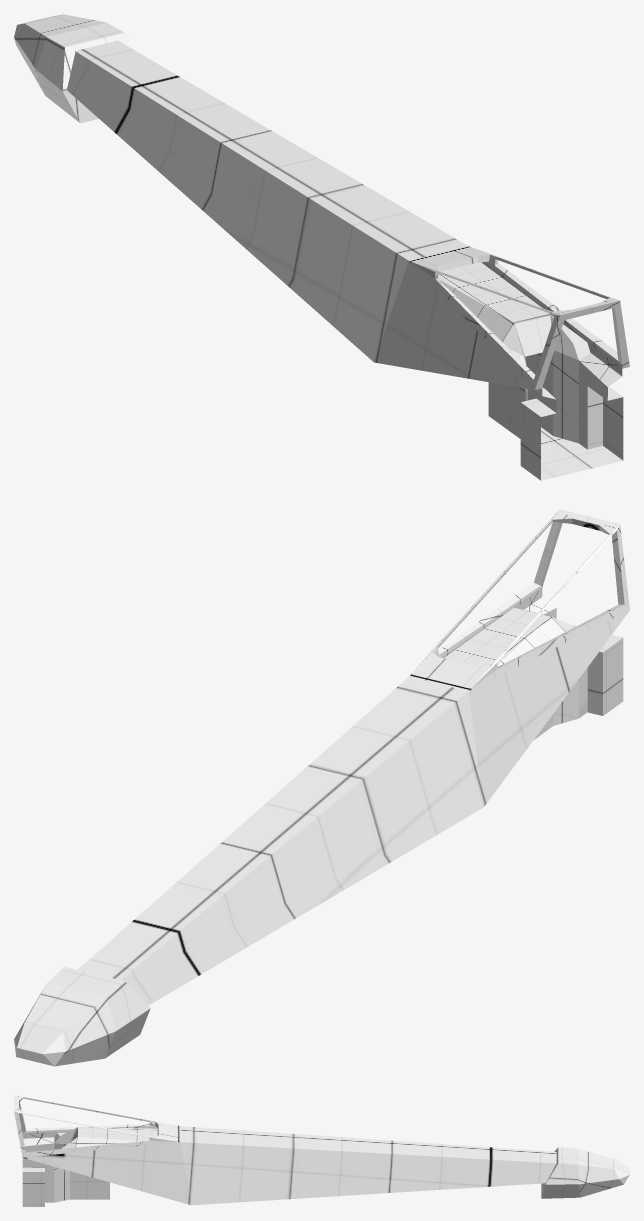
The model's file is EE_Player.fbx.
3 views of the same model, one above another, from view 1: azimuth 30°, elevation 25°; view 2: azimuth 150°, elevation 25°; view 3: azimuth 270°, elevation 25° (orthographic). The views are drawn at different scales.
Visible parts, largest first — view 1: body1.001; view 2: body1.001; view 3: body1.001.
Boxes of the visible parts, left/top/right/bottom form: body1.001: left=14, top=14, right=629, bottom=480; body1.001: left=14, top=509, right=629, bottom=1066; body1.001: left=14, top=1095, right=629, bottom=1206.
Size of the model in its own units: 367 by 539 by 3245.
